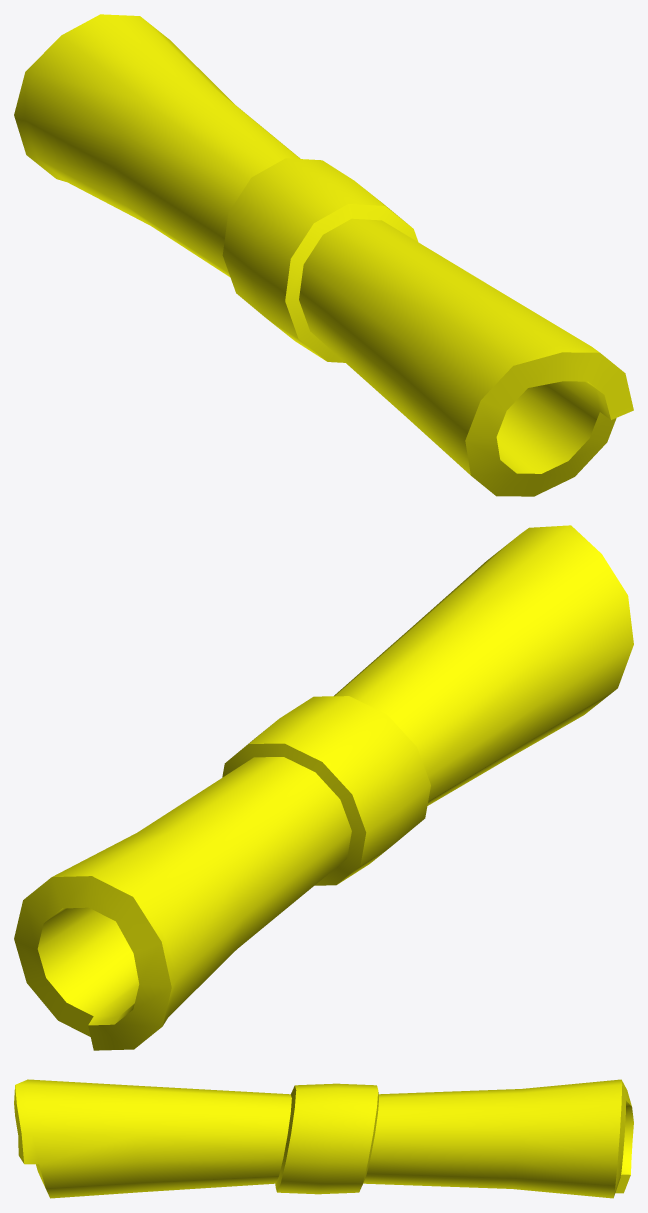
The model's file is kaykit-map-rolled.glb.
The picture shows the model from 3 angles, top to bottom: view 1: azimuth 30°, elevation 25°; view 2: azimuth 150°, elevation 25°; view 3: azimuth 270°, elevation 25°; orthographic projection. The views are drawn at different scales.
Visible parts, largest first — view 1: map_rolled; view 2: map_rolled; view 3: map_rolled.
Boxes of the visible parts, <box> form: map_rolled: <box>14,14,633,496</box>; map_rolled: <box>14,525,633,1050</box>; map_rolled: <box>14,1079,633,1198</box>.
Bounding box in the file's own units: 0.2397 × 0.2381 × 1.22.
